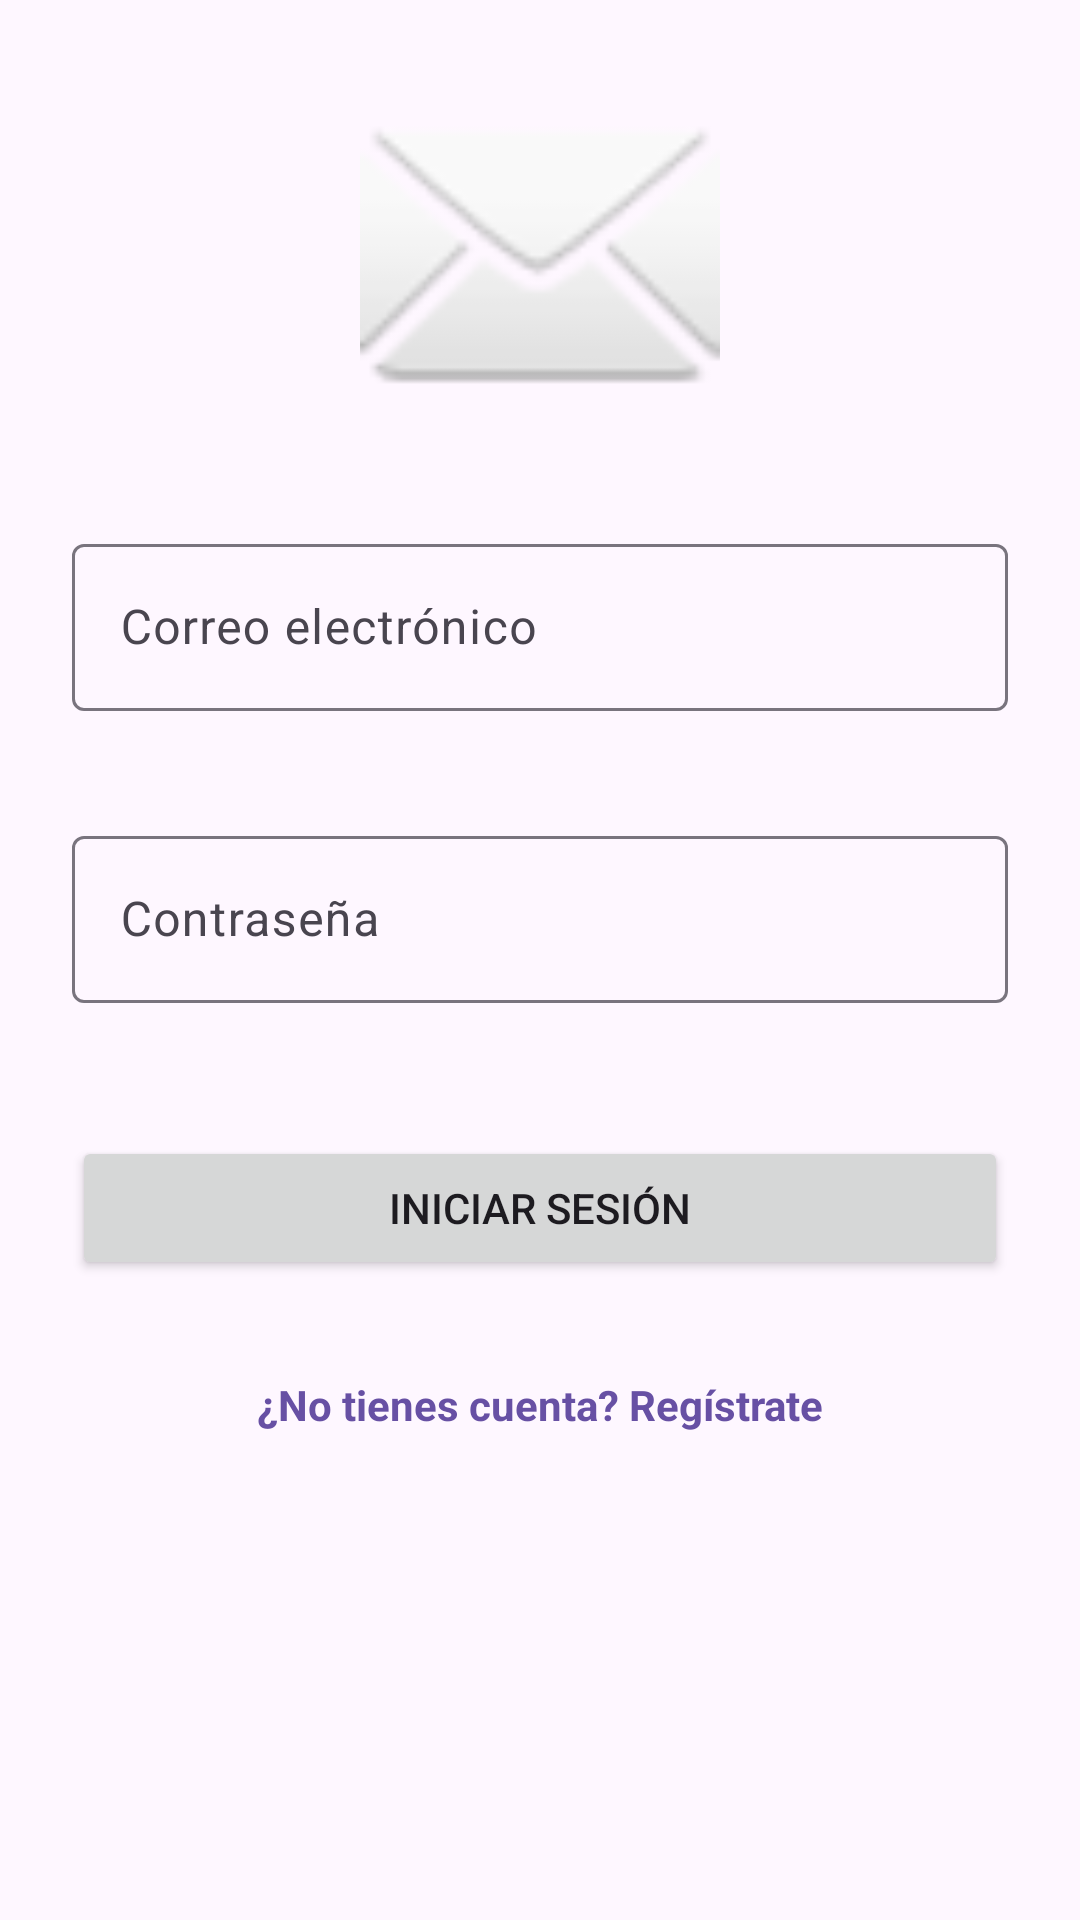

Icons on this 1080 x 1920 Android screen, each with the point to tap as (x=x, y=y):
email: (x=540, y=258)
